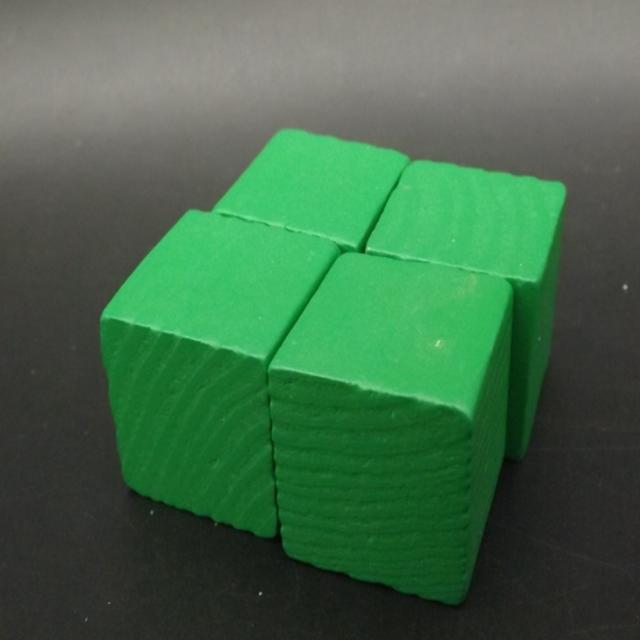green cube: (268, 248, 516, 604), (97, 208, 341, 537), (362, 157, 566, 458), (211, 125, 412, 254)
